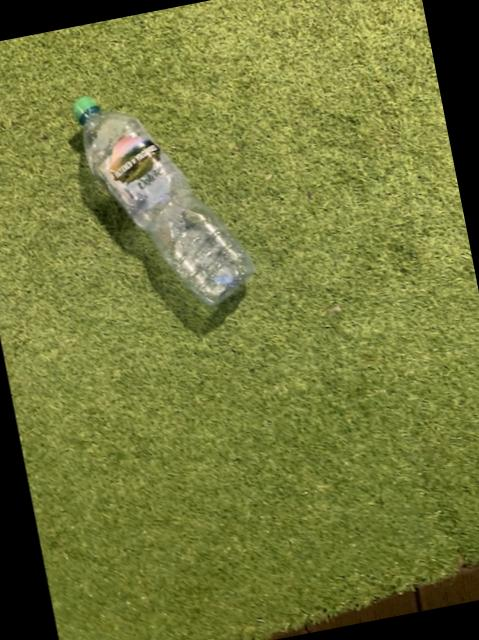plastic: (70, 95, 251, 303)
